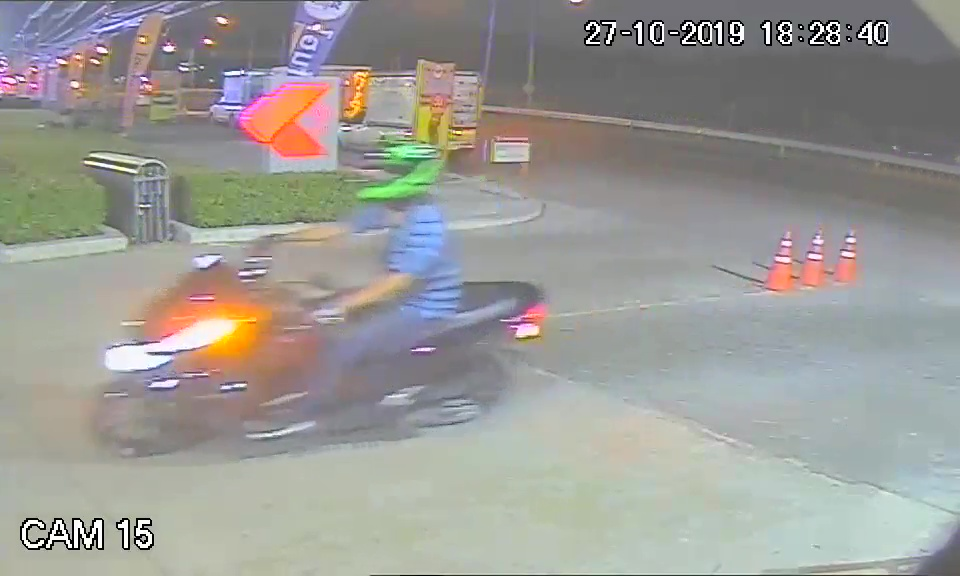motorcycle: (84, 256, 547, 456)
